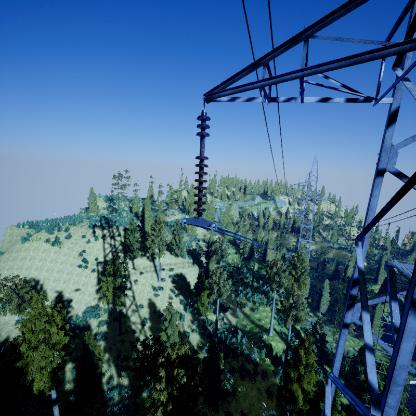insulator: (191, 114, 212, 217)
tower: (288, 155, 329, 252)
